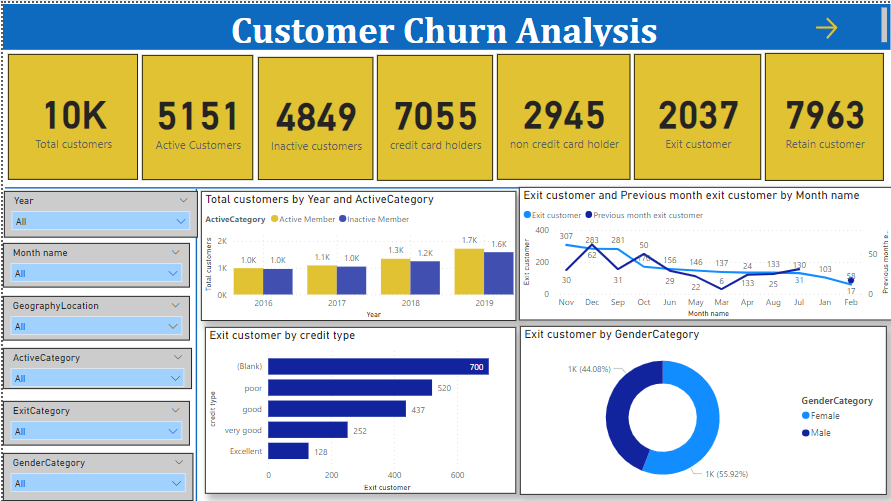

This screenshot's page, from the dashboard's own definition file:
{"tool":"powerbi","page":{"name":"Page 1","canvas":[1280,720],"ordinal":0},"visuals":[{"type":"card","fields":{"Values":["Measurea.Total customers"]},"box":[7.2,73.4,187.2,181.4],"z":0},{"type":"textbox","box":[0,1.7,1278.3,65.5],"z":1000},{"type":"card","fields":{"Values":["Measurea.Active Customers"]},"box":[199.9,75.6,159.6,179.7],"z":2000},{"type":"card","fields":{"Values":["Measurea.Inactive customers"]},"box":[367.2,77.8,165.6,177.1],"z":3000},{"type":"card","fields":{"Values":["Measurea.credit card holders"]},"box":[538.6,74.9,167,181.4],"z":4000},{"type":"card","fields":{"Values":["Measurea.non credit card holder"]},"box":[711.4,73.4,191.5,181.4],"z":5000},{"type":"card","fields":{"Values":["Measurea.Exit customer"]},"box":[908.6,73.4,182.9,181.4],"z":6000},{"type":"card","fields":{"Values":["Measurea.Retain customer"]},"box":[1097.3,72,171.4,184.3],"z":7000},{"type":"shape","box":[3.4,176.4,1275,181.4],"z":8000},{"type":"shape","box":[84,268.1,389.7,451.9],"z":9000},{"type":"slicer","fields":{"Values":["ExitCustomer.ExitCategory"]},"box":[0,572.8,268.8,63.8],"z":10000},{"type":"slicer","fields":{"Values":["DateMaster.Month name"]},"box":[0,346,268.8,63.8],"z":11000},{"type":"slicer","fields":{"Values":["Geography.GeographyLocation"]},"box":[0,421.6,268.8,63.8],"z":12000},{"type":"slicer","fields":{"Values":["ActiveCustomer.ActiveCategory"]},"box":[0,497.2,272.1,58.8],"z":13000},{"type":"slicer","fields":{"Values":["DateMaster.Year"]},"box":[1.7,270.4,278.8,67.2],"z":14000},{"type":"slicer","fields":{"Values":["Gender.GenderCategory"]},"box":[0,648.4,273.8,68.9],"z":15000},{"type":"clusteredColumnChart","fields":{"Category":["DateMaster.Year","DateMaster.Month name"],"Y":["Measurea.Total customers"],"Series":["ActiveCustomer.ActiveCategory"]},"box":[285.1,270.7,453.6,187.2],"z":16000},{"type":"lineChart","fields":{"Category":["DateMaster.Month name"],"Y":["Measurea.Exit customer"],"Y2":["Measurea.Previous month exit customer"]},"box":[743,265,537.1,191.5],"z":17000},{"type":"clusteredBarChart","fields":{"Category":["Bank_Churn.credit type"],"Y":["Measurea.Exit customer"]},"box":[290.9,466.6,447.8,240.5],"z":19000},{"type":"donutChart","fields":{"Category":["Gender.GenderCategory"],"Y":["Measurea.Exit customer"]},"box":[744.5,465.1,528.5,243.4],"z":20000},{"type":"actionButton","box":[1165.1,15.8,99.2,40.6],"z":22000}]}

Visuals, with their boxes in screenshot pixels (x1, y1, x2, y2), scaled from the page's 1280x720 canvas onto the 891x501 screenshot:
card - Measurea.Total customers: bbox=[5, 51, 135, 177]
textbox: bbox=[0, 1, 890, 47]
card - Measurea.Active Customers: bbox=[139, 53, 250, 178]
card - Measurea.Inactive customers: bbox=[256, 54, 371, 177]
card - Measurea.credit card holders: bbox=[375, 52, 491, 178]
card - Measurea.non credit card holder: bbox=[495, 51, 629, 177]
card - Measurea.Exit customer: bbox=[632, 51, 760, 177]
card - Measurea.Retain customer: bbox=[764, 50, 883, 178]
shape: bbox=[2, 123, 890, 249]
shape: bbox=[58, 187, 330, 500]
slicer - ExitCustomer.ExitCategory: bbox=[0, 399, 187, 443]
slicer - DateMaster.Month name: bbox=[0, 241, 187, 285]
slicer - Geography.GeographyLocation: bbox=[0, 293, 187, 338]
slicer - ActiveCustomer.ActiveCategory: bbox=[0, 346, 189, 387]
slicer - DateMaster.Year: bbox=[1, 188, 195, 235]
slicer - Gender.GenderCategory: bbox=[0, 451, 191, 499]
clusteredColumnChart - DateMaster.Year x DateMaster.Month name: bbox=[198, 188, 514, 319]
lineChart - DateMaster.Month name x Measurea.Exit customer: bbox=[517, 184, 890, 318]
clusteredBarChart - Bank_Churn.credit type x Measurea.Exit customer: bbox=[202, 325, 514, 492]
donutChart - Gender.GenderCategory x Measurea.Exit customer: bbox=[518, 324, 886, 493]
actionButton: bbox=[811, 11, 880, 39]
